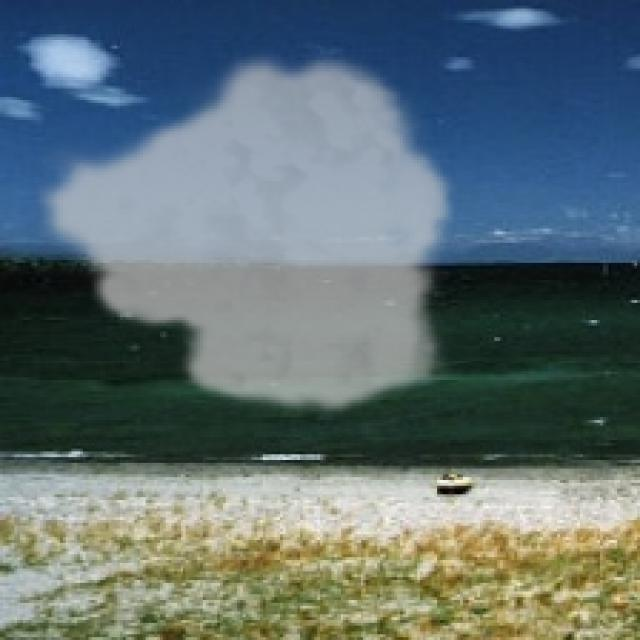Smoke: (32, 46, 457, 417)
